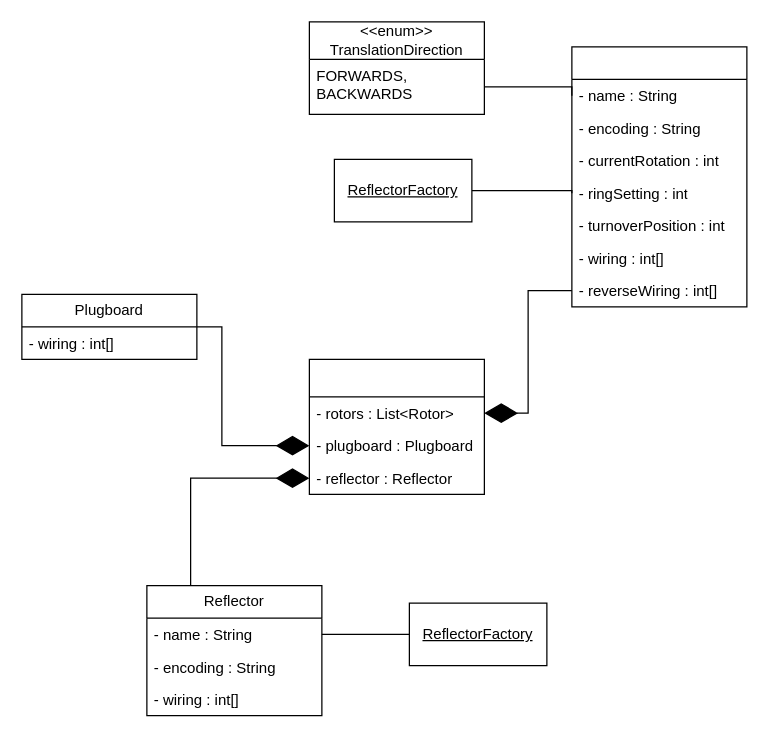
The diagram is 769 pixels wide and 741 high, and some of its shapes have lost their labels. The box of each missing label's shape, as (x1, y1, x2, y2) in pixels:
Enigma: (308, 358, 484, 494)
Rotor: (571, 46, 747, 307)
